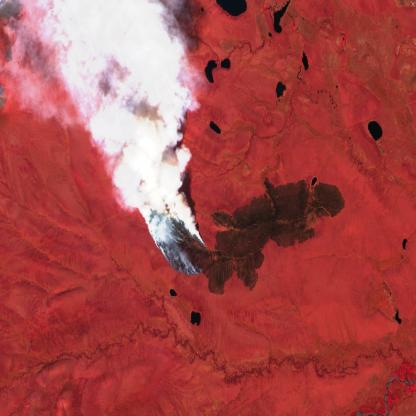fire: (137, 185, 210, 280)
